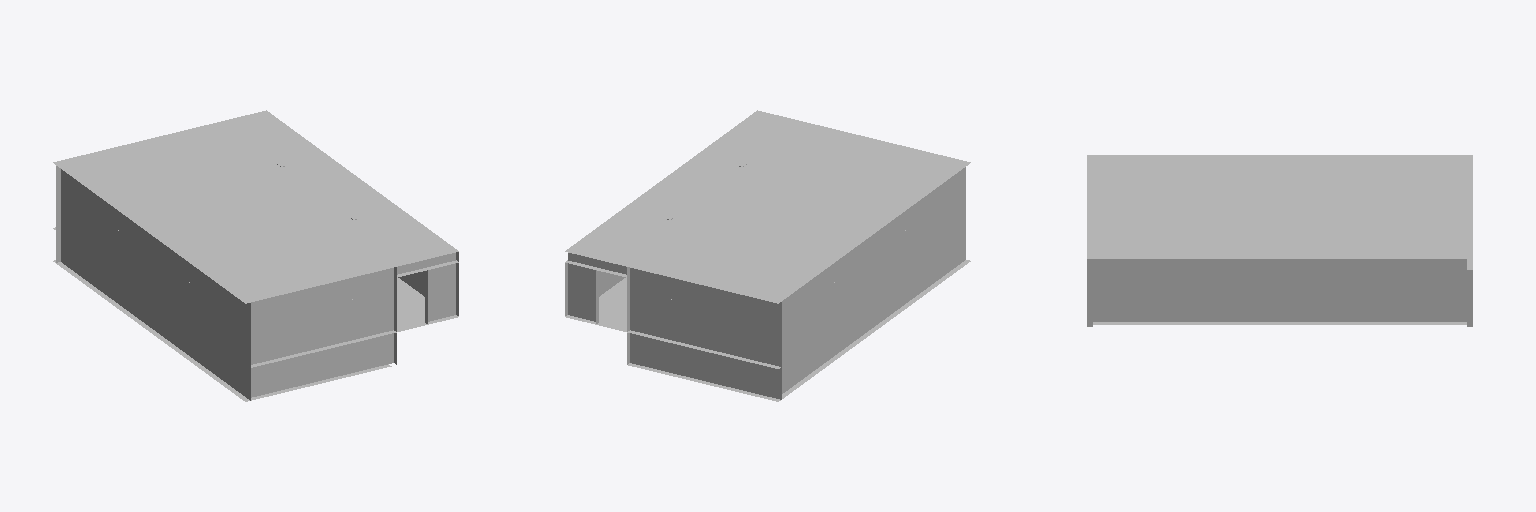
File: RZ_room2_offices2.obj
3 renders of one model, left to right at view 1: azimuth 30°, elevation 25°; view 2: azimuth 150°, elevation 25°; view 3: azimuth 270°, elevation 25°, orthographic.
Parts seen in each view (by area): view 1: RZ_room2_offices2; view 2: RZ_room2_offices2; view 3: RZ_room2_offices2.
Part boxes in pixels (bbox=[...]): RZ_room2_offices2: bbox=[53, 110, 458, 401]; RZ_room2_offices2: bbox=[565, 110, 970, 401]; RZ_room2_offices2: bbox=[1087, 155, 1472, 326].
Bounding box in the file's own units: 13.12 × 5.79 × 20.48.